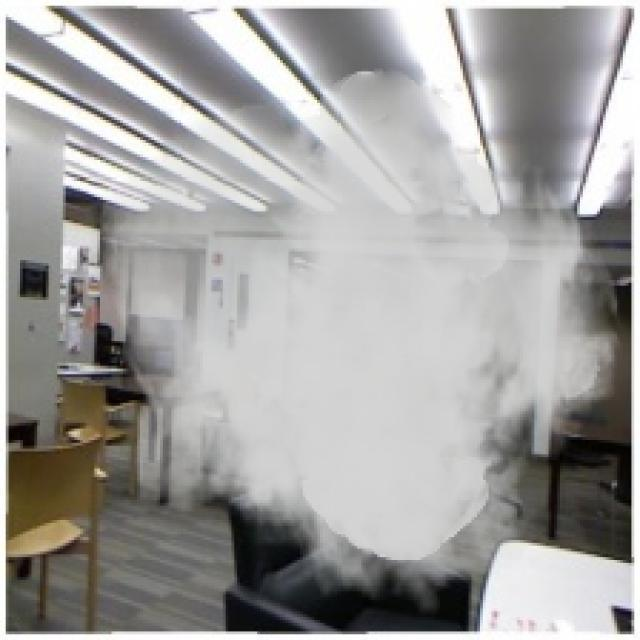Smoke: (91, 68, 626, 618)
